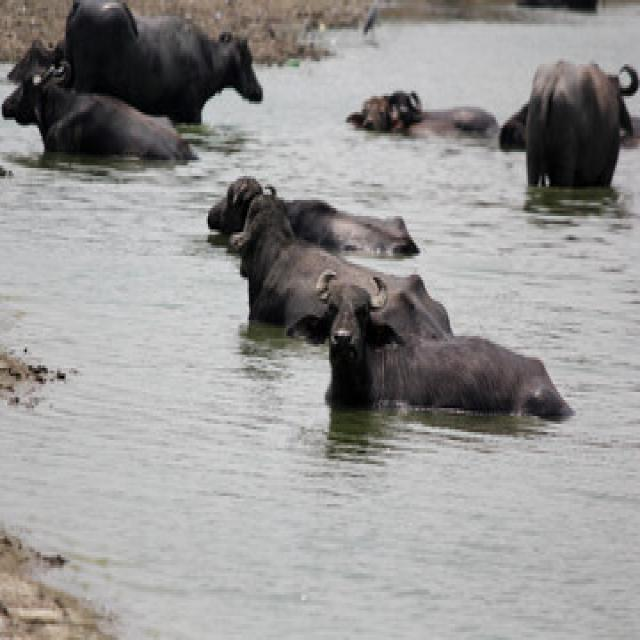Buffalo: (288, 264, 566, 423), (521, 46, 640, 190)
